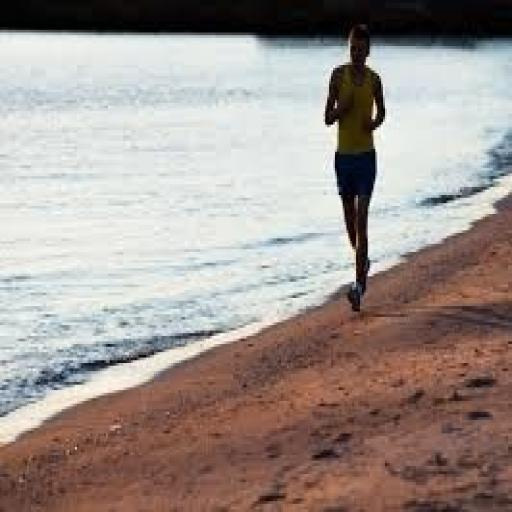running: (321, 19, 391, 317)
